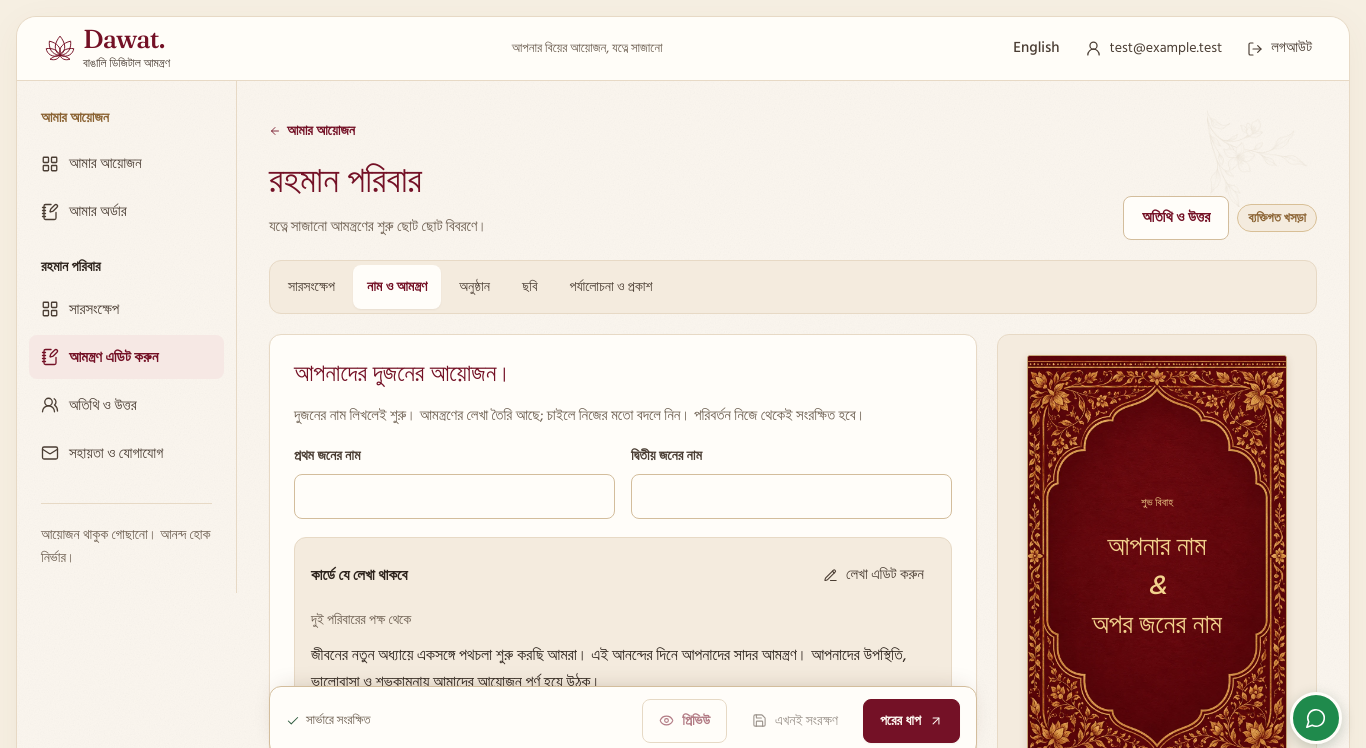
Test: opens the displayed default as editable text for a legacy blank draft
Click the button "লেখা এডিট করুন": x=874, y=576 812,554 -> 935,598
(page scrolled)
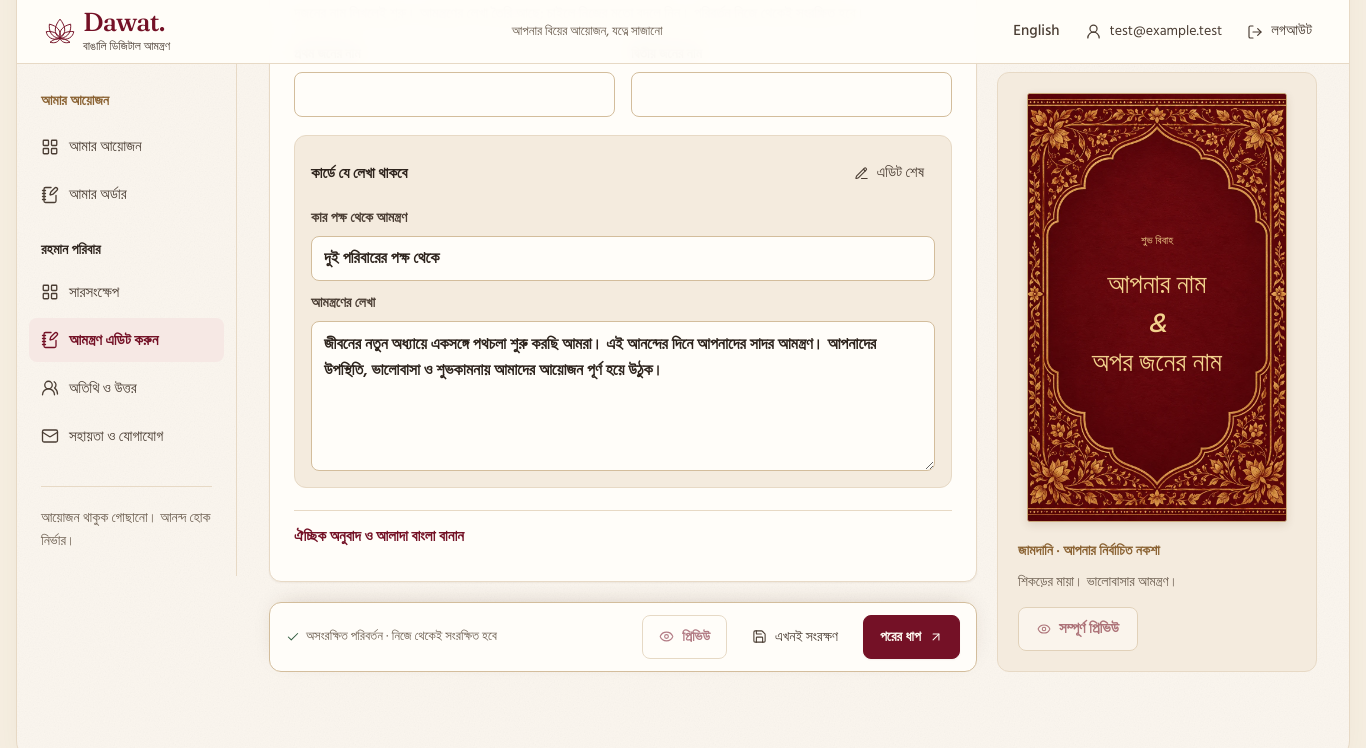
expect the text box labelled "আমন্ত্রণের লেখা" holds "জীবনের নতুন অধ্যায়ে একসঙ্গে পথচলা শুরু করছি আমরা। এই আনন্দের দিনে আপনাদের সাদর আমন্ত্রণ। আপনাদের উপস্থিতি, ভালোবাসা ও শুভকামনায় আমাদের আয়োজন পূর্ণ হয়ে উঠুক।": met, box 311,321 -> 935,471
